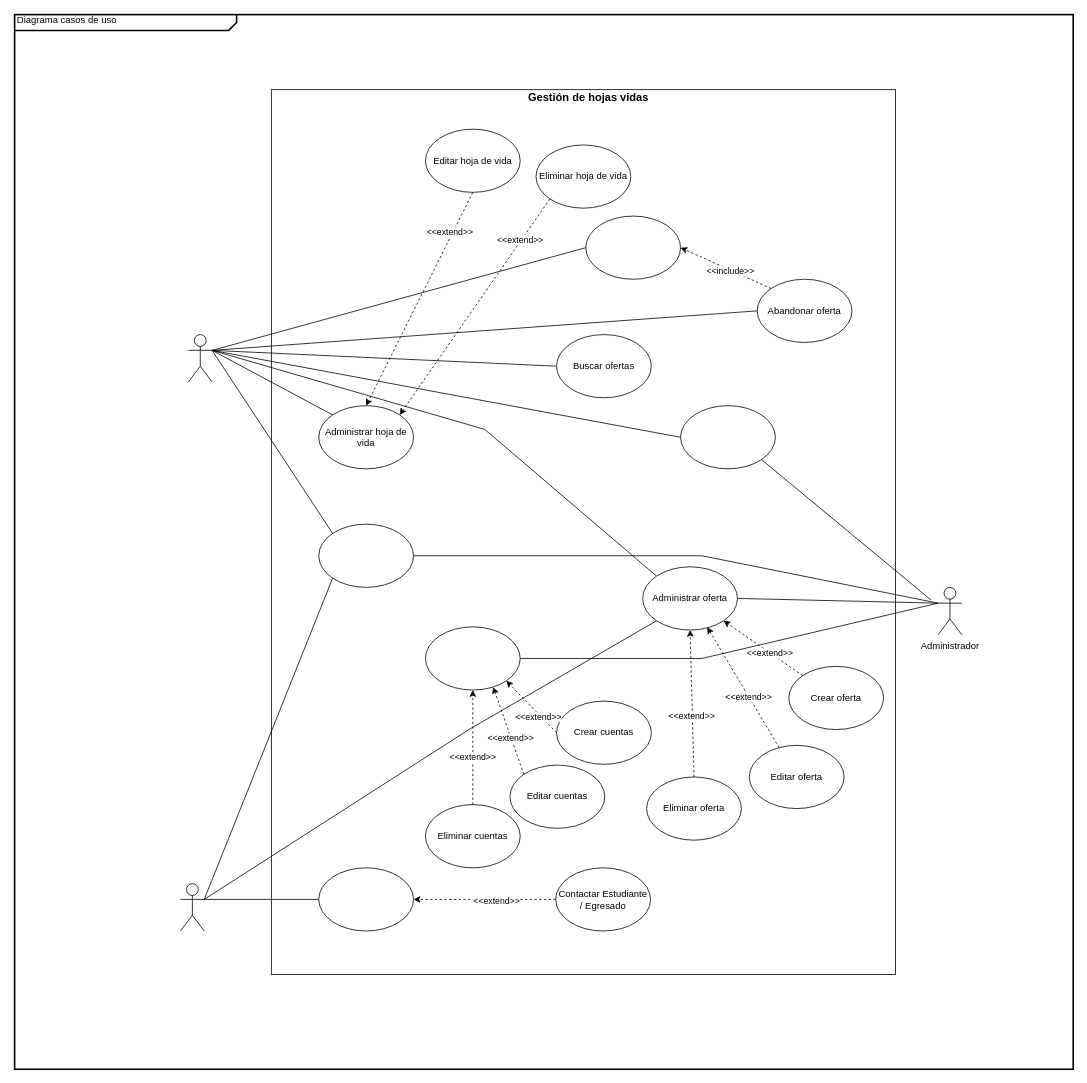
Image size: 1087x1083. Some labels were removed from this diagram. Here are the shapes that lost their labels. From the top down, the centre of each, then its label:
pixel 633 247: Aplicar oferta
pixel 200 358: Usuario
pixel 727 437: Ver oferta
pixel 366 555: Iniciar sesión
pixel 472 658: Administrar cuentas
pixel 192 907: Ofertante
pixel 366 899: Consultar Estudiante / Egresado
